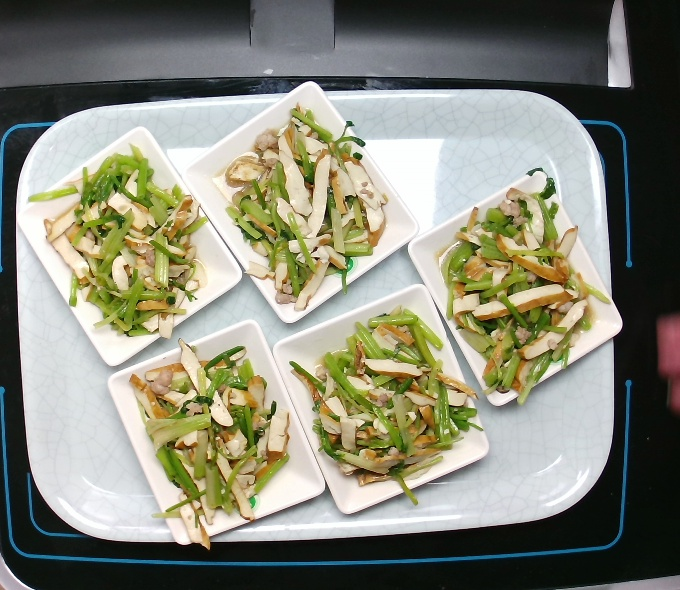wcq-XiangGanQinCai: (436, 162, 613, 412), (287, 301, 487, 511), (21, 138, 214, 345), (125, 333, 296, 556), (219, 98, 393, 317)
